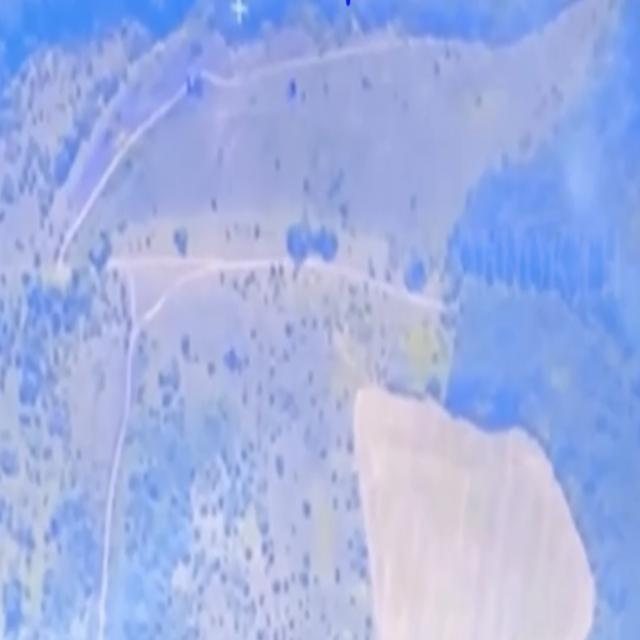vehicle: (89, 228, 112, 272), (185, 65, 204, 96)
